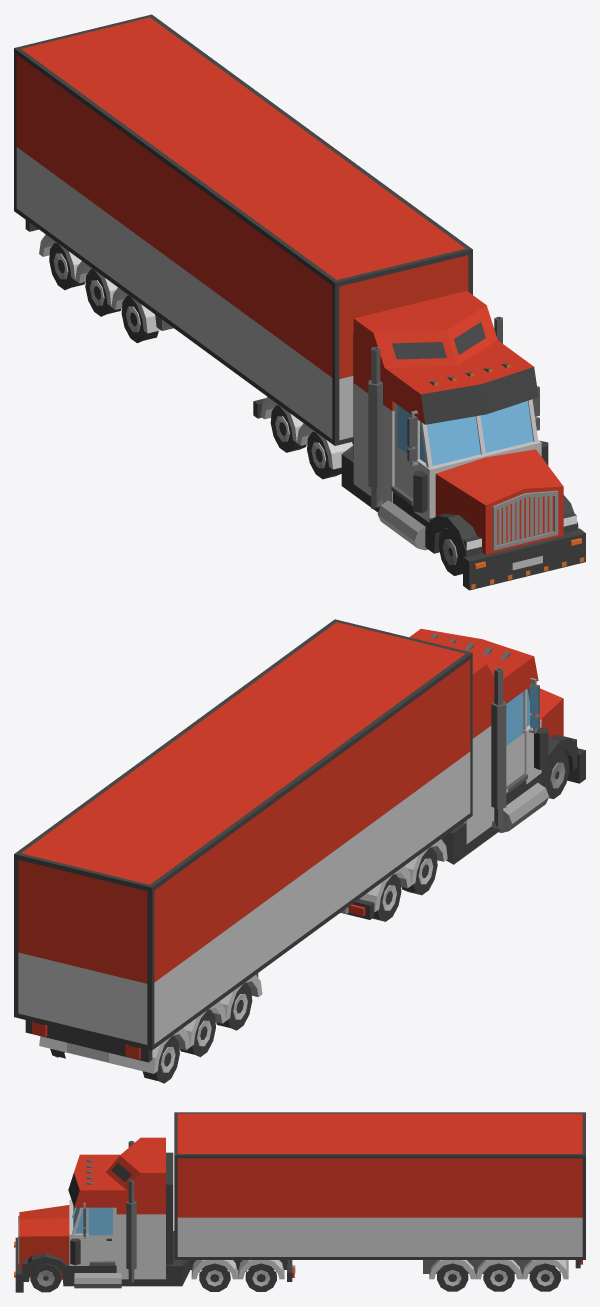
File: Truck_5.fbx
3 renders of one model, top to bottom at view 1: azimuth 30°, elevation 25°; view 2: azimuth 150°, elevation 25°; view 3: azimuth 270°, elevation 25°, orthographic. The views are drawn at different scales.
Parts seen in each view (by area): view 1: Truck_Cargo, Truck_5; view 2: Truck_Cargo, Truck_5; view 3: Truck_Cargo, Truck_5.
Part boxes in pixels (bbox=[...]): Truck_Cargo: bbox=[14, 14, 472, 445]; Truck_5: bbox=[253, 291, 585, 590]; Truck_Cargo: bbox=[14, 619, 472, 1083]; Truck_5: bbox=[340, 628, 585, 921]; Truck_Cargo: bbox=[174, 1112, 585, 1291]; Truck_5: bbox=[14, 1137, 295, 1292].
Bounding box in the file's own units: 1.07 × 1.63 × 5.97.
